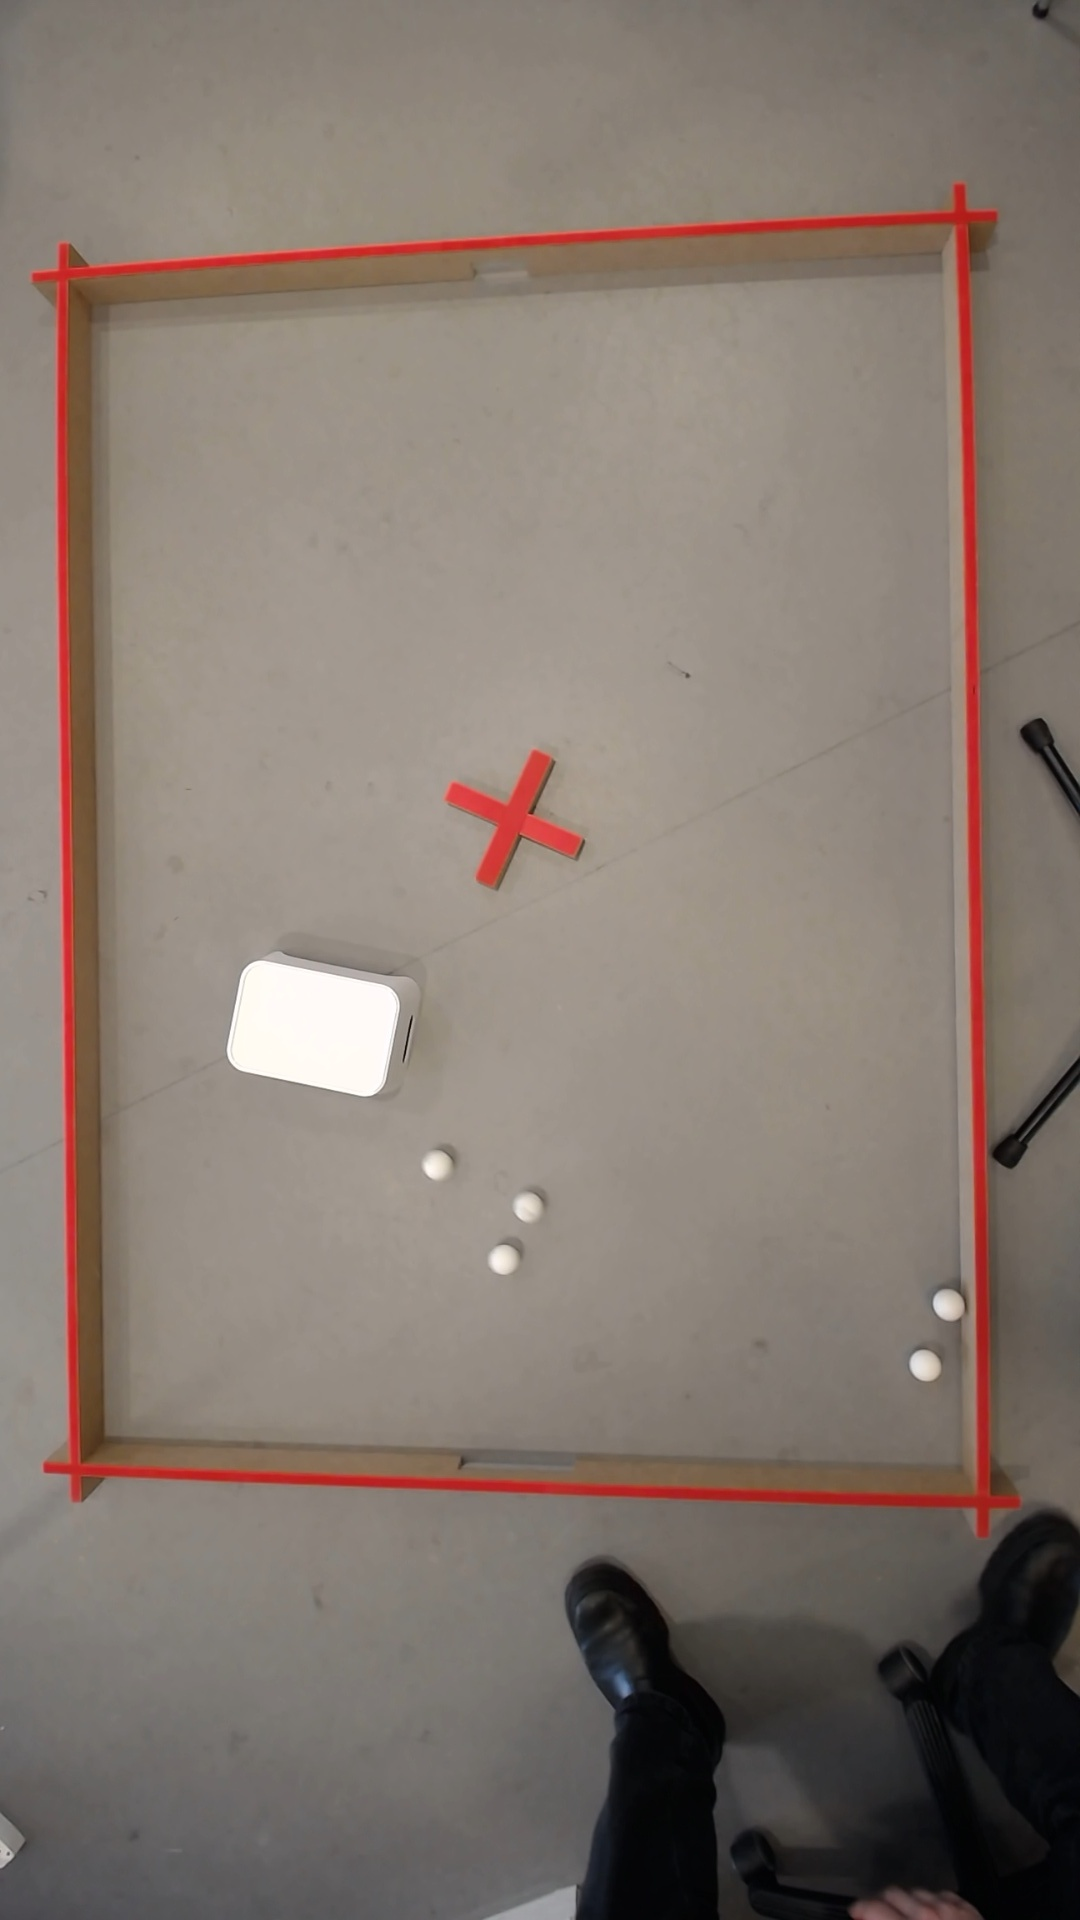balls: (220, 955, 404, 1100), (903, 1349, 940, 1383), (483, 1242, 516, 1276), (927, 1290, 960, 1320), (418, 1150, 448, 1182)
car: (508, 1191, 539, 1222)
